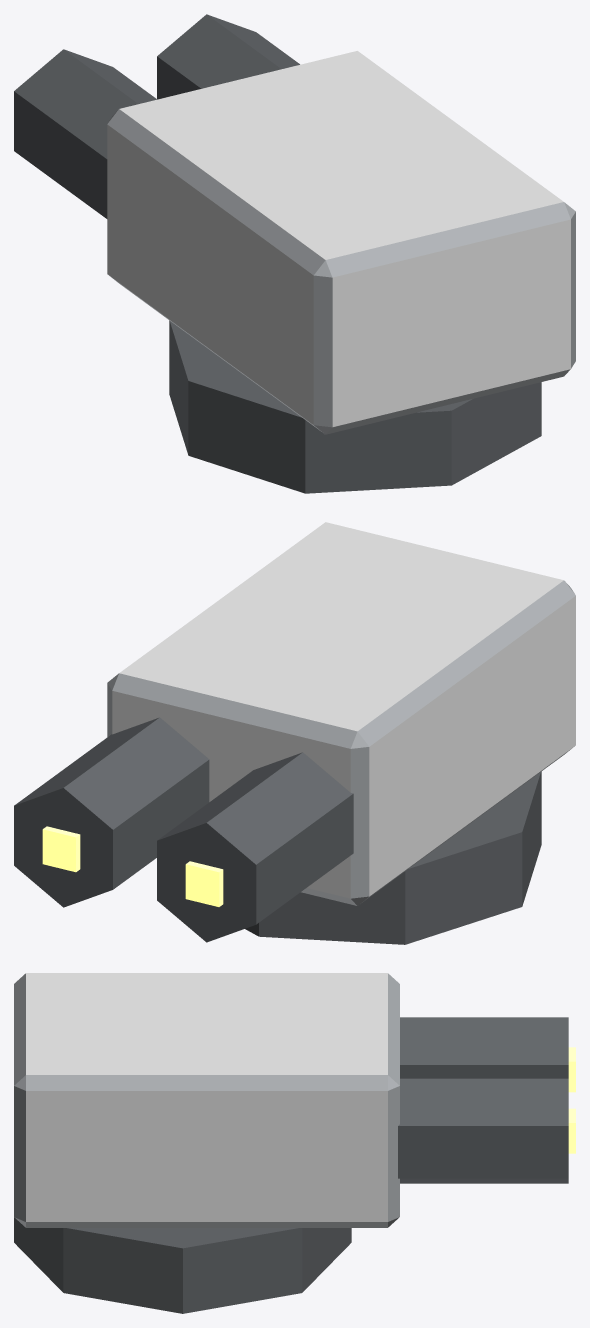
File: torpedo_l.glb
3 renders of one model, top to bottom at view 1: azimuth 30°, elevation 25°; view 2: azimuth 150°, elevation 25°; view 3: azimuth 270°, elevation 25°, orthographic. The views are drawn at different scales.
Visible parts, largest first — view 1: torpedo_l_LOD0; view 2: torpedo_l_LOD0; view 3: torpedo_l_LOD0.
Boxes of the visible parts, x1=… form: torpedo_l_LOD0: x1=14, y1=14, x2=575, y2=493; torpedo_l_LOD0: x1=14, y1=522, x2=575, y2=944; torpedo_l_LOD0: x1=14, y1=973, x2=575, y2=1313.
Size of what is drawn, in the model's own units: 1.4 by 1 by 2.33.
